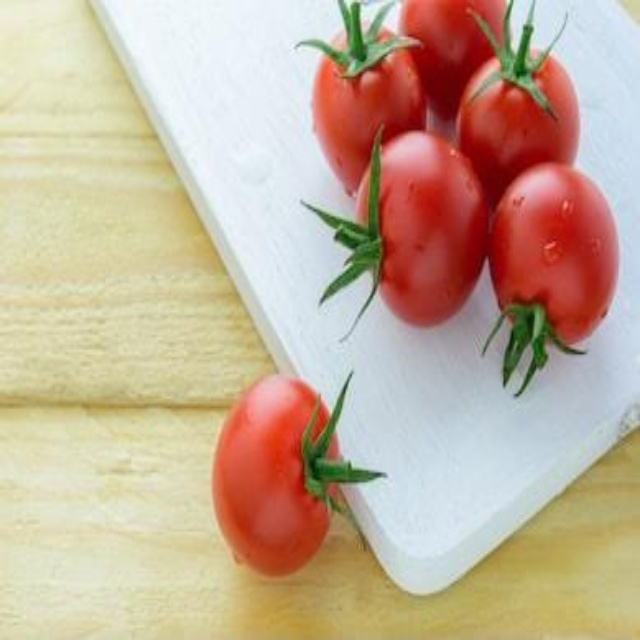tomato: (212, 379, 351, 581), (481, 174, 628, 359), (357, 141, 493, 315), (299, 32, 431, 196), (460, 60, 584, 191), (396, 6, 519, 122)
